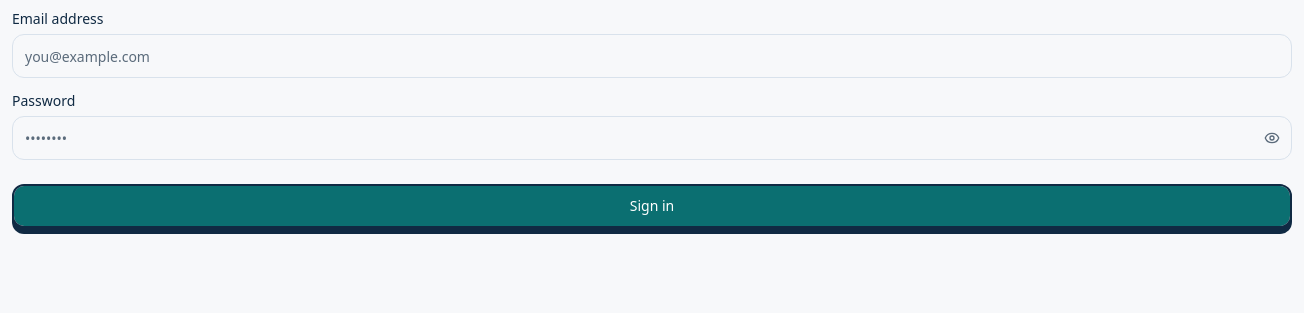
Scenario: LoginForm › displays an error when login fails
Step 1. Type "ahmed@example.com" into the field labelled "Email address" → (652,56), box x1=12 y1=34 x2=1292 y2=78
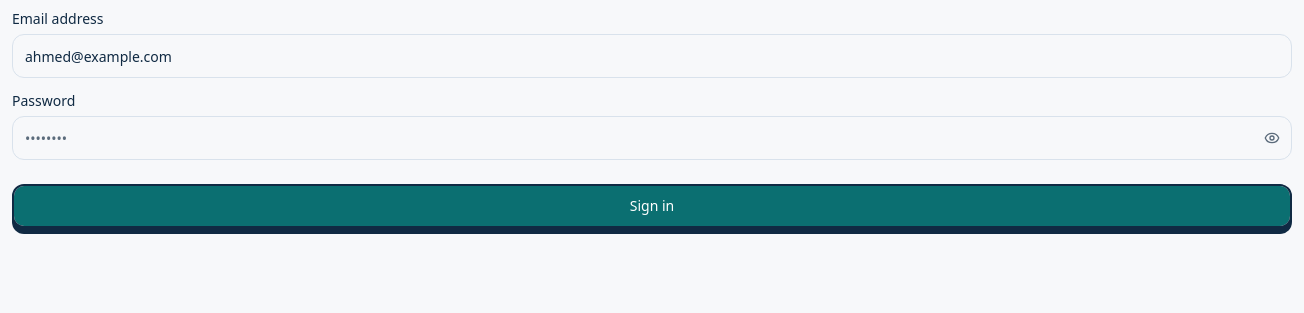
Step 2. Type "password123" into the password field labelled "Password" → (652,138), box x1=12 y1=116 x2=1292 y2=160
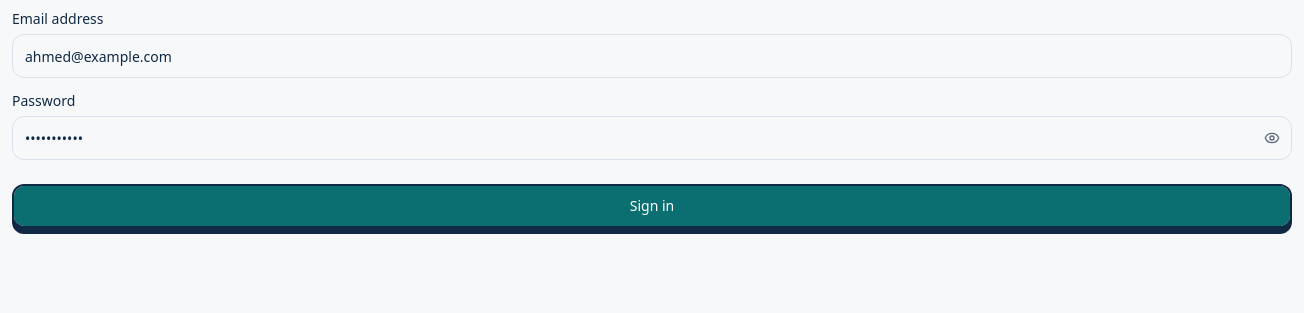
Step 3. Click the button "Sign in" → (652,206), box x1=12 y1=184 x2=1292 y2=228
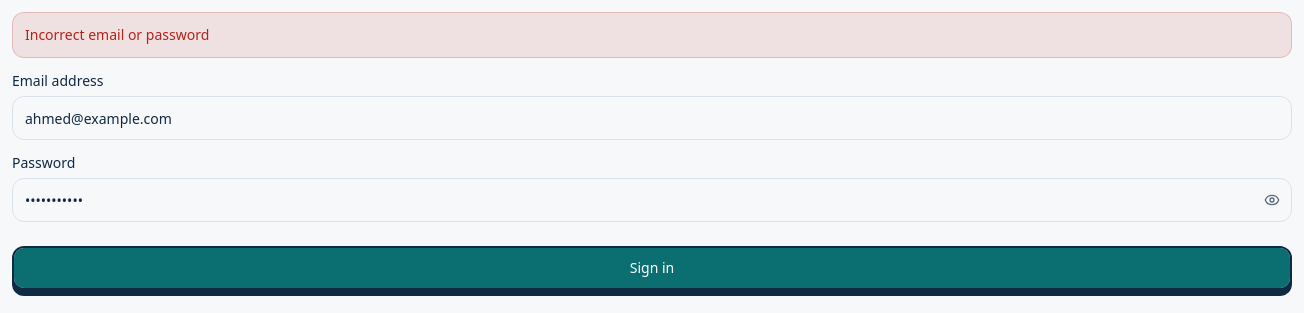
Check: the text "Incorrect email or password" is shown, box x1=25 y1=25 x2=209 y2=44
